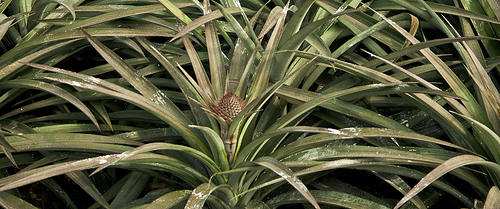pineapple: (215, 90, 244, 125)
